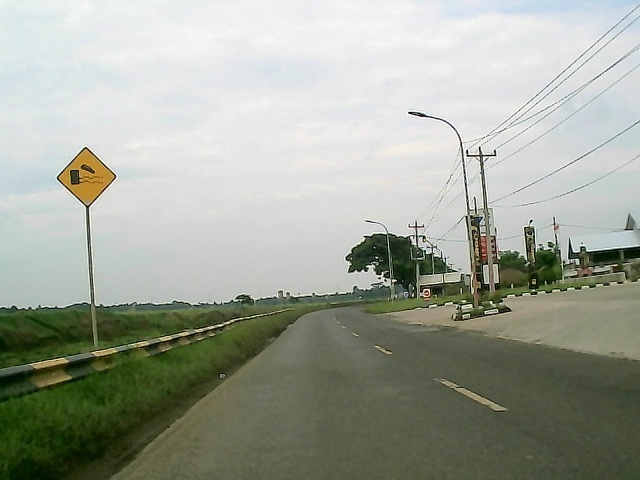Peringatan tepi air: (54, 146, 121, 213)
